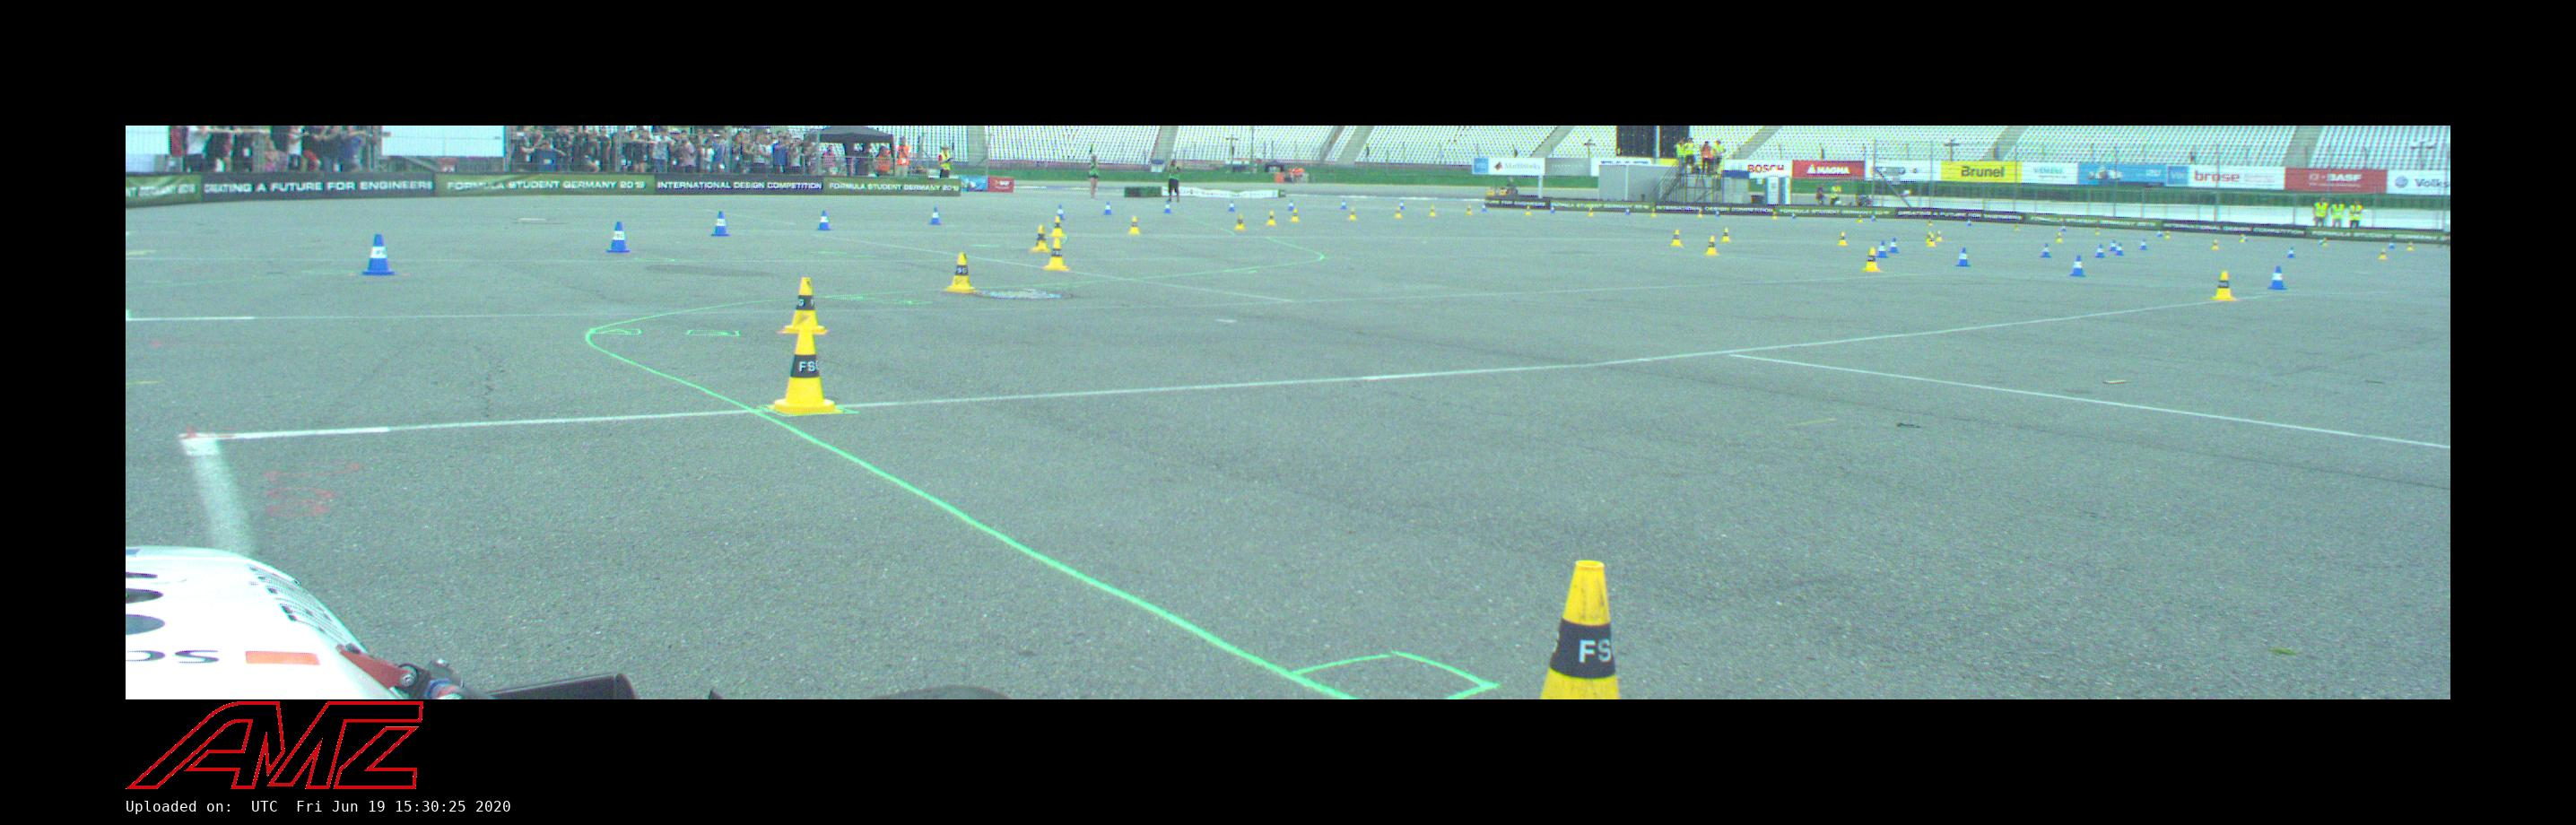blue_cone: (356, 233, 400, 276), (602, 221, 635, 254), (709, 211, 731, 237), (2267, 266, 2287, 290), (814, 210, 832, 230), (2070, 256, 2086, 277), (1954, 248, 1971, 266), (928, 207, 942, 225), (1102, 201, 1115, 215), (1054, 204, 1066, 220), (1876, 242, 1888, 257), (1888, 238, 1899, 253), (2095, 244, 2105, 257), (2041, 244, 2051, 257), (2115, 243, 2125, 256), (1163, 201, 1173, 213), (2139, 239, 2148, 250), (1287, 199, 1296, 211), (1228, 200, 1236, 212), (2287, 247, 2295, 258), (2110, 240, 2117, 251), (1340, 198, 1347, 209), (2389, 240, 2395, 248), (1399, 201, 1405, 209), (1871, 213, 1876, 221), (2319, 238, 2324, 246), (2157, 230, 2163, 237), (1967, 219, 1972, 226), (1550, 205, 1555, 213), (1625, 208, 1631, 215), (1715, 210, 1720, 217), (1482, 204, 1486, 212), (2061, 224, 2066, 231), (1792, 212, 1796, 219), (2244, 236, 2248, 241)
yellow_cone: (1540, 557, 1623, 699), (766, 326, 844, 414), (783, 277, 828, 335), (943, 252, 979, 293), (1043, 239, 1070, 272), (2208, 271, 2237, 300), (1031, 224, 1050, 251), (1861, 247, 1880, 271), (1049, 216, 1066, 237), (1704, 236, 1719, 255), (1127, 216, 1141, 234), (1670, 229, 1682, 246), (1234, 214, 1246, 230), (1721, 228, 1731, 242), (1266, 211, 1276, 225), (1839, 231, 1848, 245), (1928, 234, 1936, 247), (1291, 209, 1299, 221), (1395, 206, 1402, 218), (1349, 208, 1356, 220), (1466, 204, 1474, 215), (1430, 204, 1436, 216), (1925, 230, 1931, 242), (2380, 249, 2387, 259), (2212, 239, 2218, 249), (1936, 230, 1942, 240), (2406, 242, 2414, 250), (1526, 205, 1531, 215), (1697, 207, 1702, 217), (2057, 233, 2062, 242), (1858, 213, 1863, 222), (1588, 206, 1593, 216), (1651, 207, 1656, 217), (1771, 212, 1777, 219), (1928, 219, 1933, 226), (2095, 227, 2100, 235), (2165, 230, 2170, 239), (2014, 224, 2019, 230), (2240, 235, 2243, 242), (2324, 238, 2327, 246)
